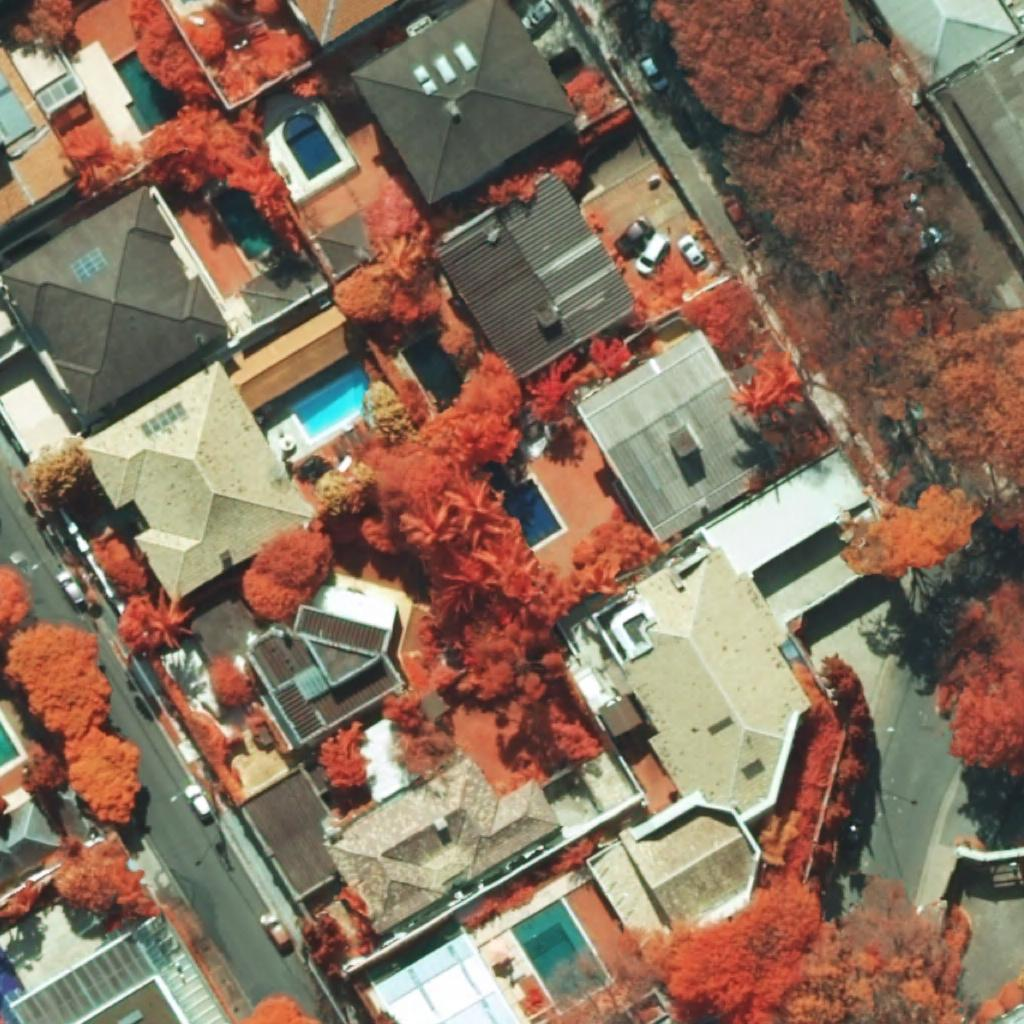pool: (509, 899, 606, 1013), (113, 49, 185, 136), (293, 369, 368, 440), (211, 189, 283, 260), (282, 113, 342, 181), (503, 479, 561, 549), (0, 947, 22, 1013)
